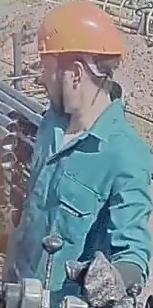gloves: (64, 250, 132, 308)
helmet: (35, 0, 125, 65)
vest: (4, 96, 152, 300)
